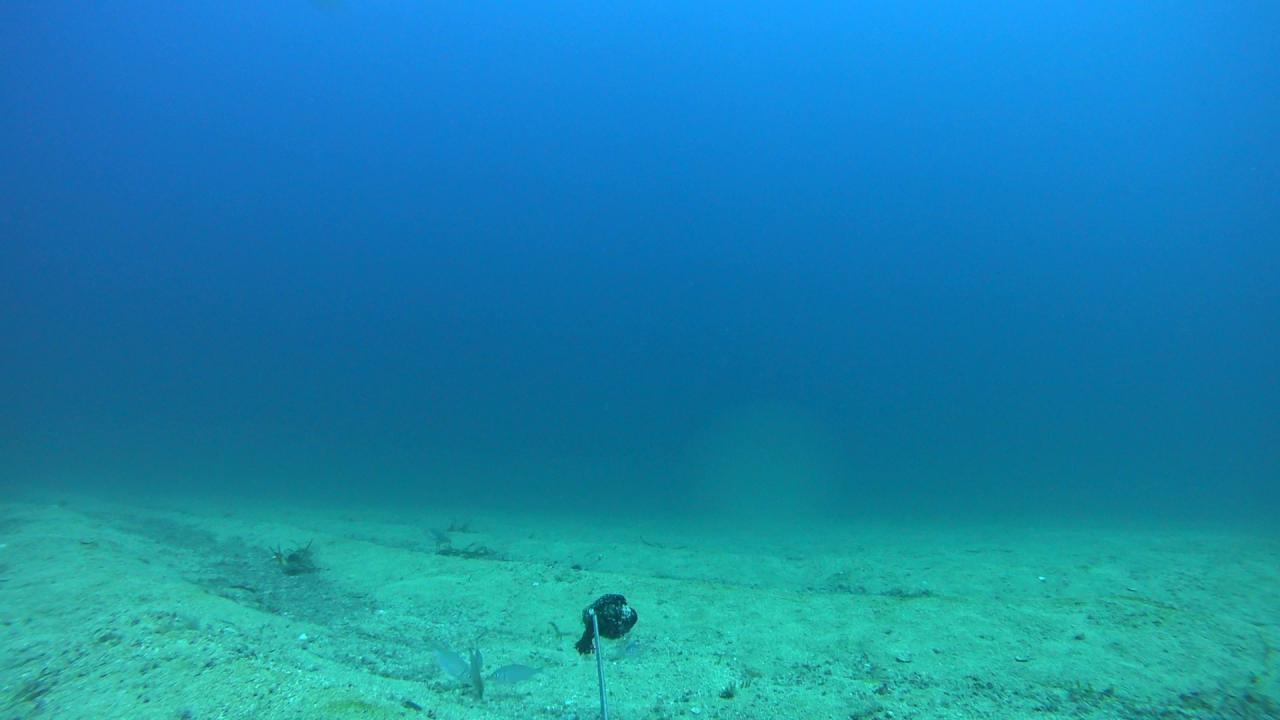pagellus: (425, 634, 475, 688), (488, 663, 546, 686)
